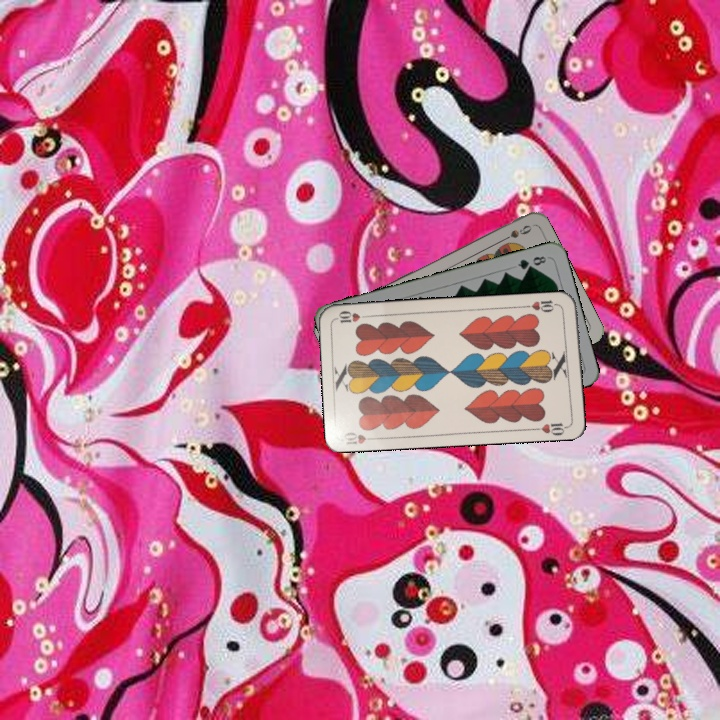G8: (514, 252, 551, 272)
H10: (340, 427, 380, 447), (521, 296, 562, 315)
S9: (496, 221, 534, 245)
